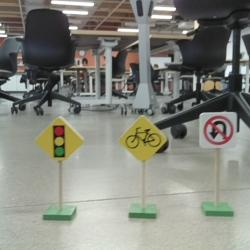bicycle: (118, 114, 167, 161)
no_u_turn: (199, 112, 237, 149)
traffic_signal: (35, 115, 84, 161)
